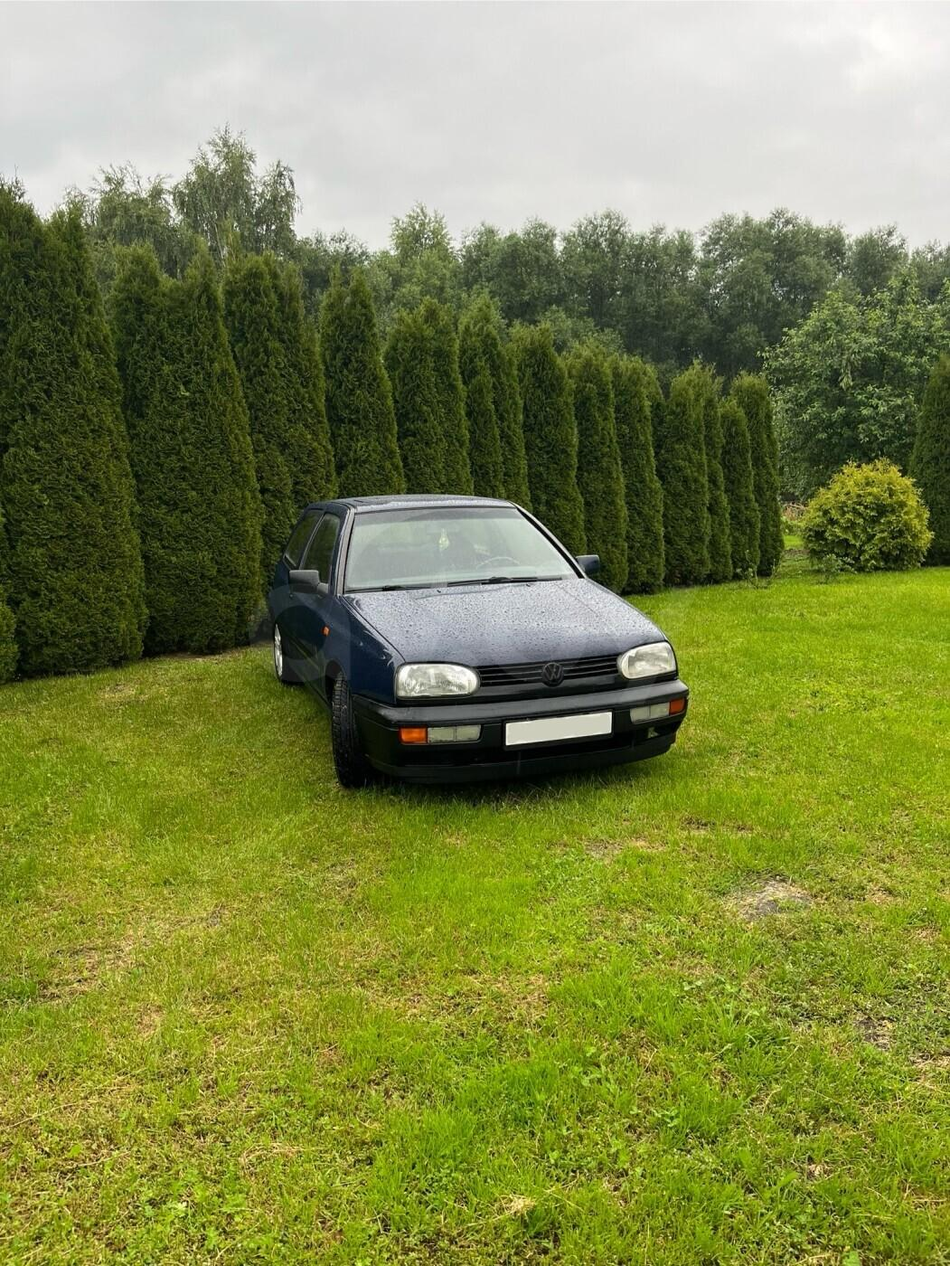Golf_1991-2000: (258, 487, 715, 803)
